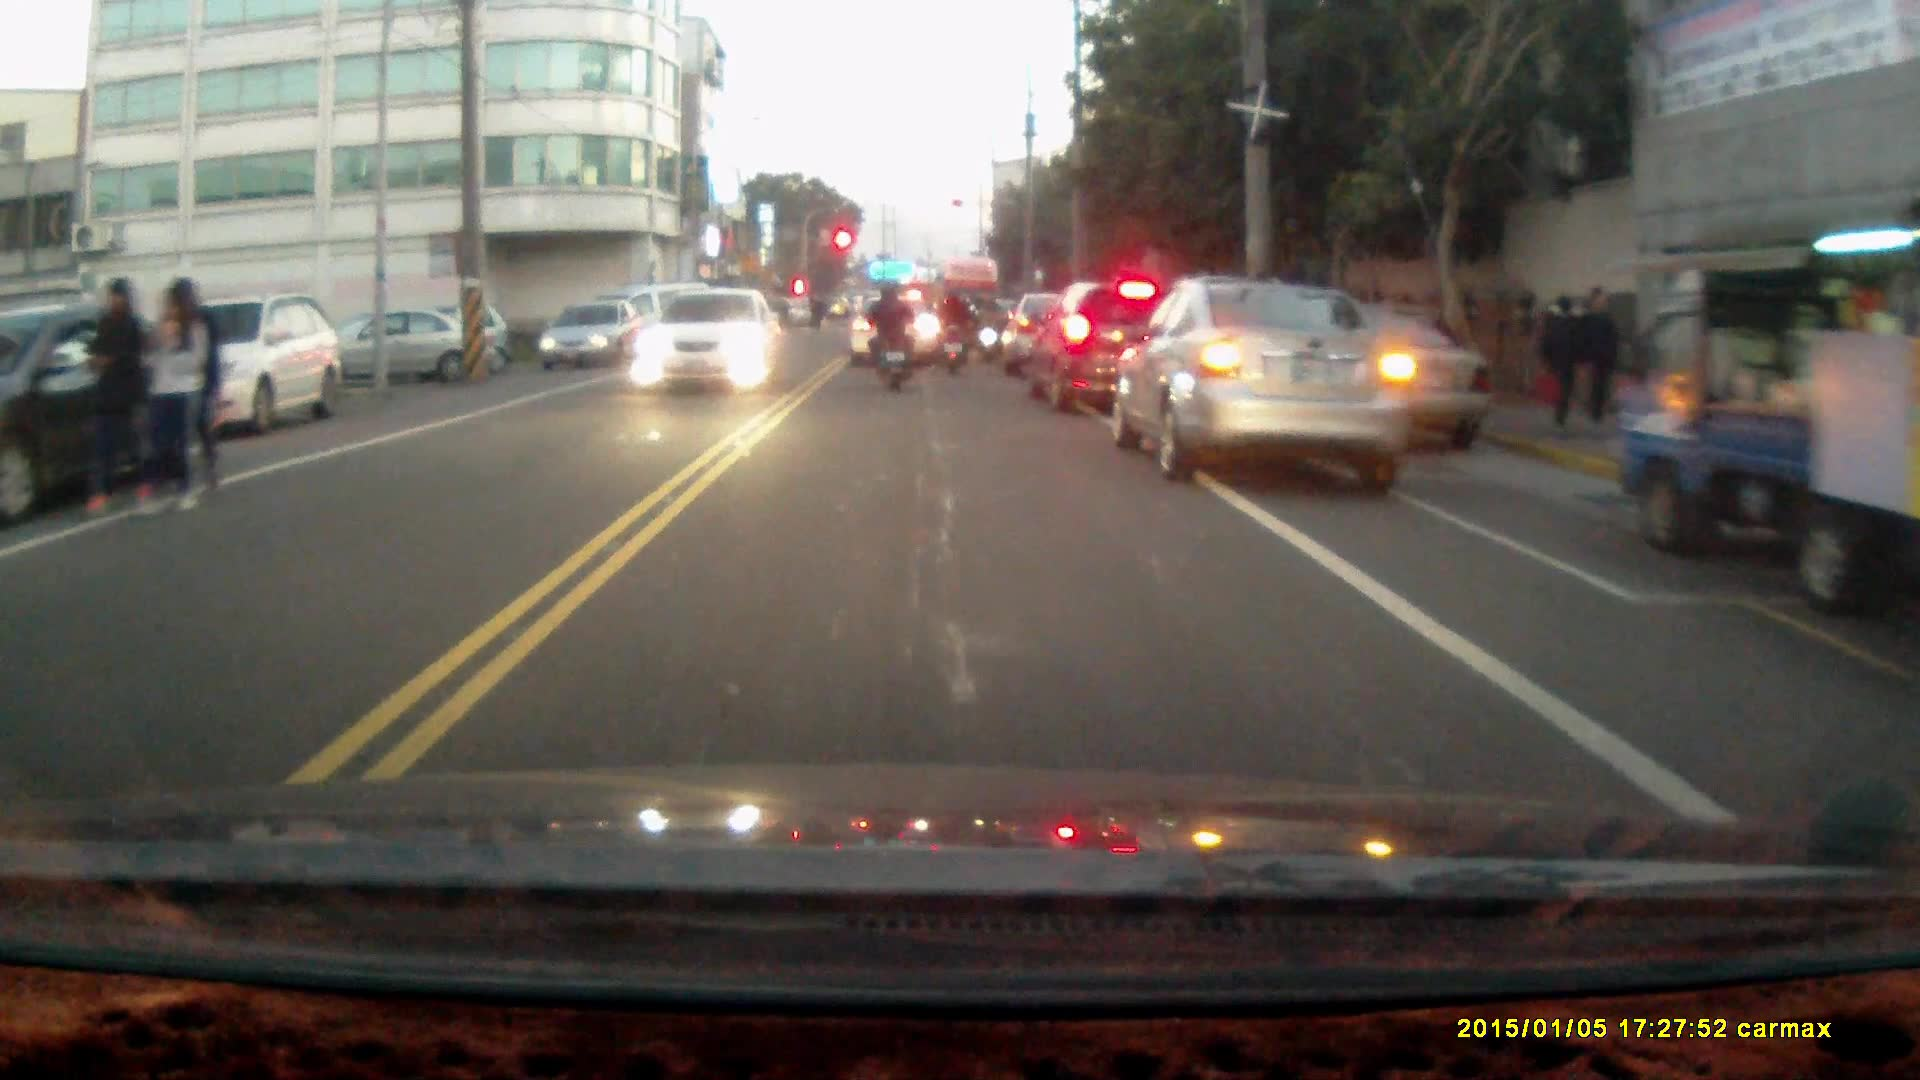pedestrian: (132, 279, 207, 523), (79, 271, 145, 516), (1573, 286, 1624, 434), (1538, 291, 1588, 435)
rider: (865, 277, 914, 393), (931, 281, 977, 377)
vehicle: (1622, 218, 1920, 615), (1120, 277, 1412, 487), (1, 299, 223, 530), (124, 290, 343, 434), (1034, 279, 1174, 414), (629, 289, 780, 391), (539, 301, 642, 368), (851, 293, 945, 364)
